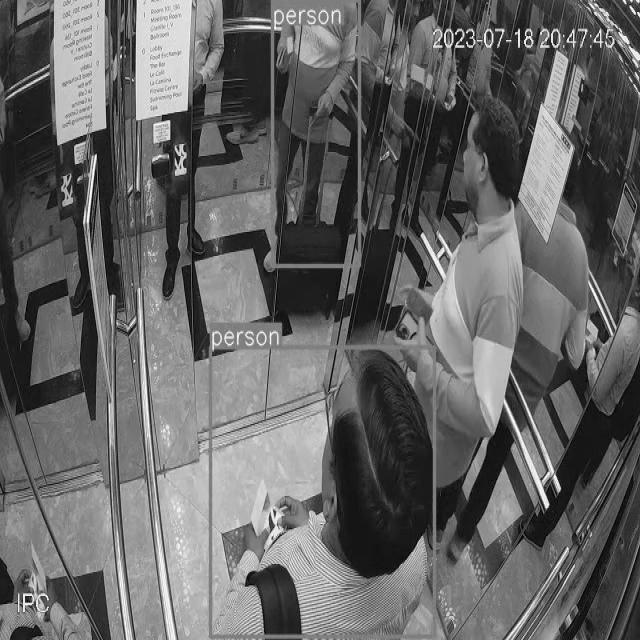person: (208, 344, 435, 640), (370, 99, 529, 448), (274, 0, 361, 270)
